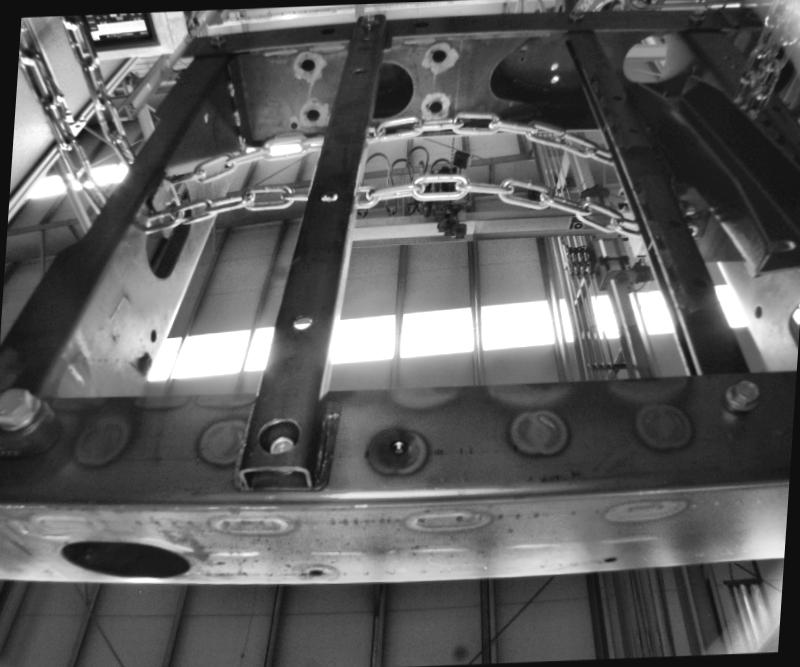bolt: (0, 381, 41, 443), (719, 380, 764, 412), (132, 352, 154, 377), (562, 6, 586, 20), (686, 6, 705, 22), (206, 33, 226, 48), (358, 14, 377, 26)
bracket: (146, 162, 192, 244)
hole: (48, 532, 204, 585), (614, 28, 671, 84), (258, 416, 299, 458), (287, 312, 313, 336), (383, 437, 407, 459), (317, 190, 338, 205), (298, 57, 316, 72), (424, 100, 442, 115), (664, 216, 680, 231), (349, 64, 368, 76), (304, 108, 320, 122), (690, 276, 705, 290), (750, 305, 764, 319), (318, 26, 338, 35), (430, 50, 444, 62), (602, 554, 616, 566), (308, 567, 322, 577), (610, 94, 622, 104), (412, 20, 428, 27), (149, 329, 157, 342), (626, 126, 637, 134), (792, 136, 799, 148), (360, 35, 370, 43), (768, 105, 779, 112), (718, 52, 730, 58), (290, 121, 297, 128), (726, 64, 737, 68)
welding: (224, 80, 238, 98), (230, 108, 242, 126), (235, 134, 246, 152)
